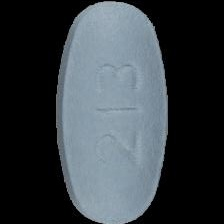68788-9873: (0, 0, 224, 224)
